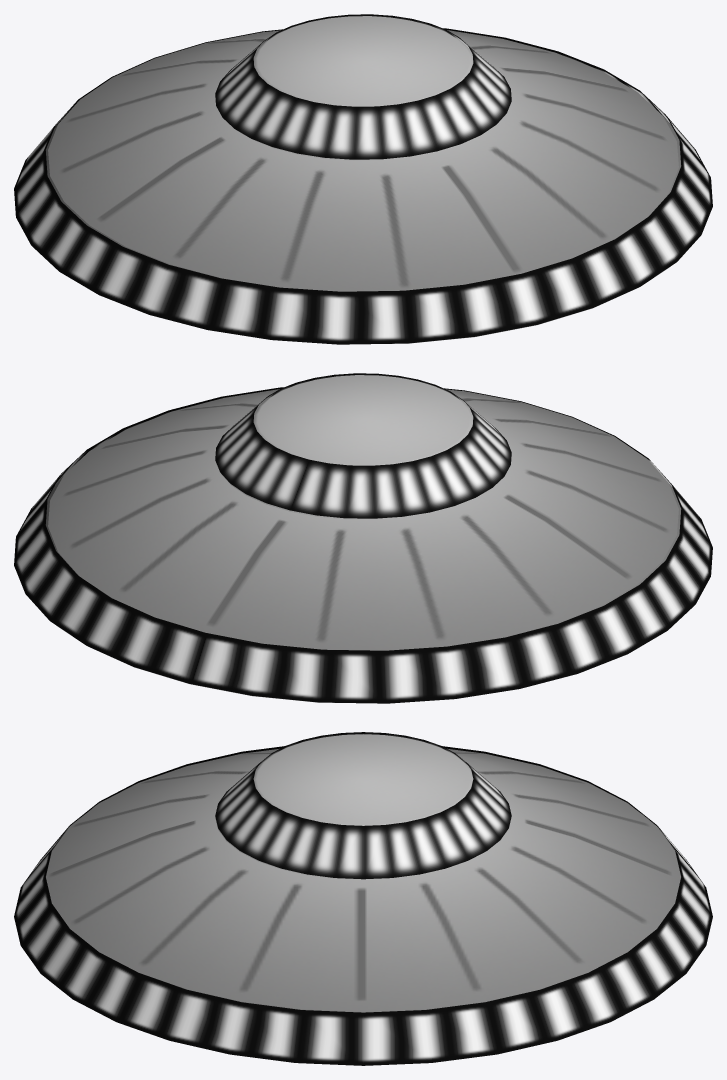
File: Saucer.fbx
3 views of the same model, one above another, from view 1: azimuth 30°, elevation 25°; view 2: azimuth 150°, elevation 25°; view 3: azimuth 270°, elevation 25° (orthographic).
Parts seen in each view (by area): view 1: Hull, Glow; view 2: Hull, Glow; view 3: Hull, Glow.
Part boxes in pixels (x1,y1,x2,y2): Hull: [45, 16, 681, 343]; Glow: [14, 14, 712, 344]; Hull: [45, 375, 681, 702]; Glow: [14, 373, 712, 703]; Hull: [46, 734, 680, 1012]; Glow: [14, 732, 712, 1065].
Bounding box in the file's own units: 11.11 × 3.01 × 11.
